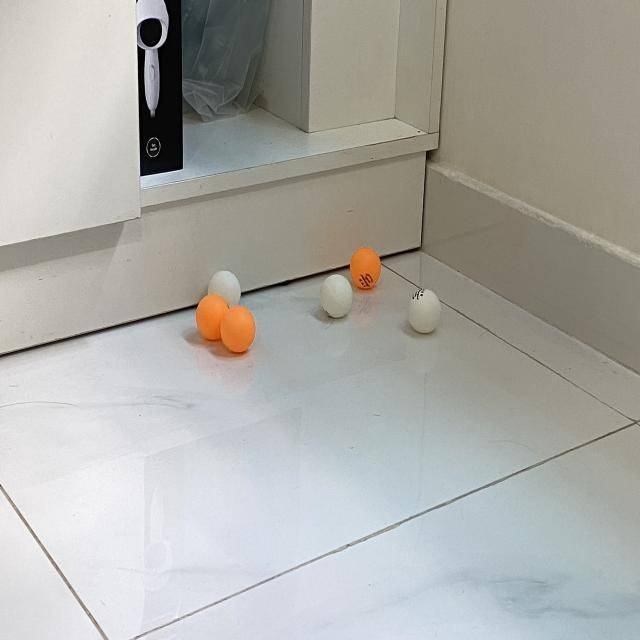ping-pong-ball: (222, 305, 257, 353), (407, 286, 442, 334), (198, 294, 231, 341), (208, 269, 240, 314), (351, 245, 382, 288), (322, 276, 352, 318)
